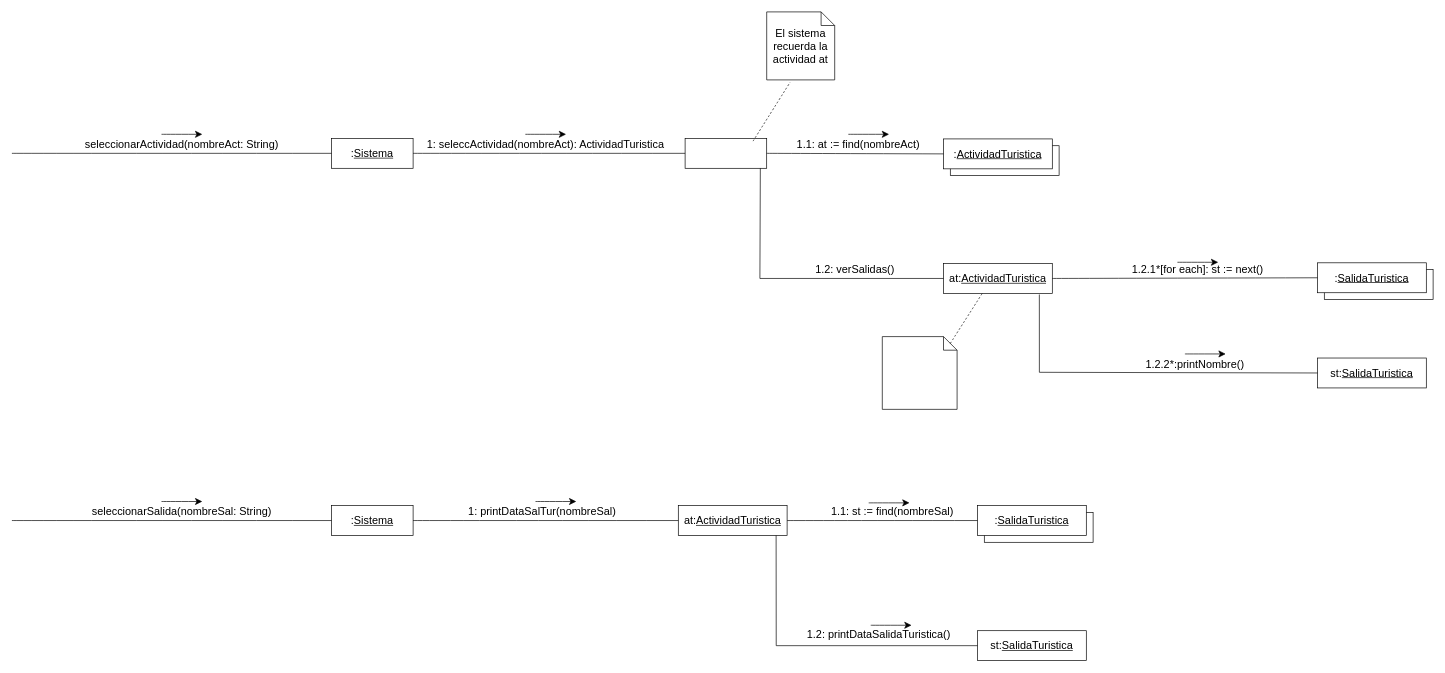
This 1445x673 diagram has some shape labels left out. Here are the shapes that lost their labels. From the top down, the centre of each, then its label:
At point (725, 153): "d: Departamento".
At point (919, 372): "Imprime los nombres de las salidas asociadas".
